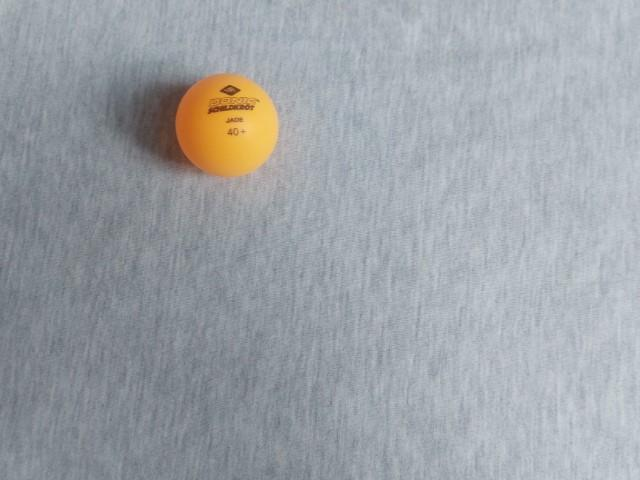oball: (353, 299, 471, 411)
